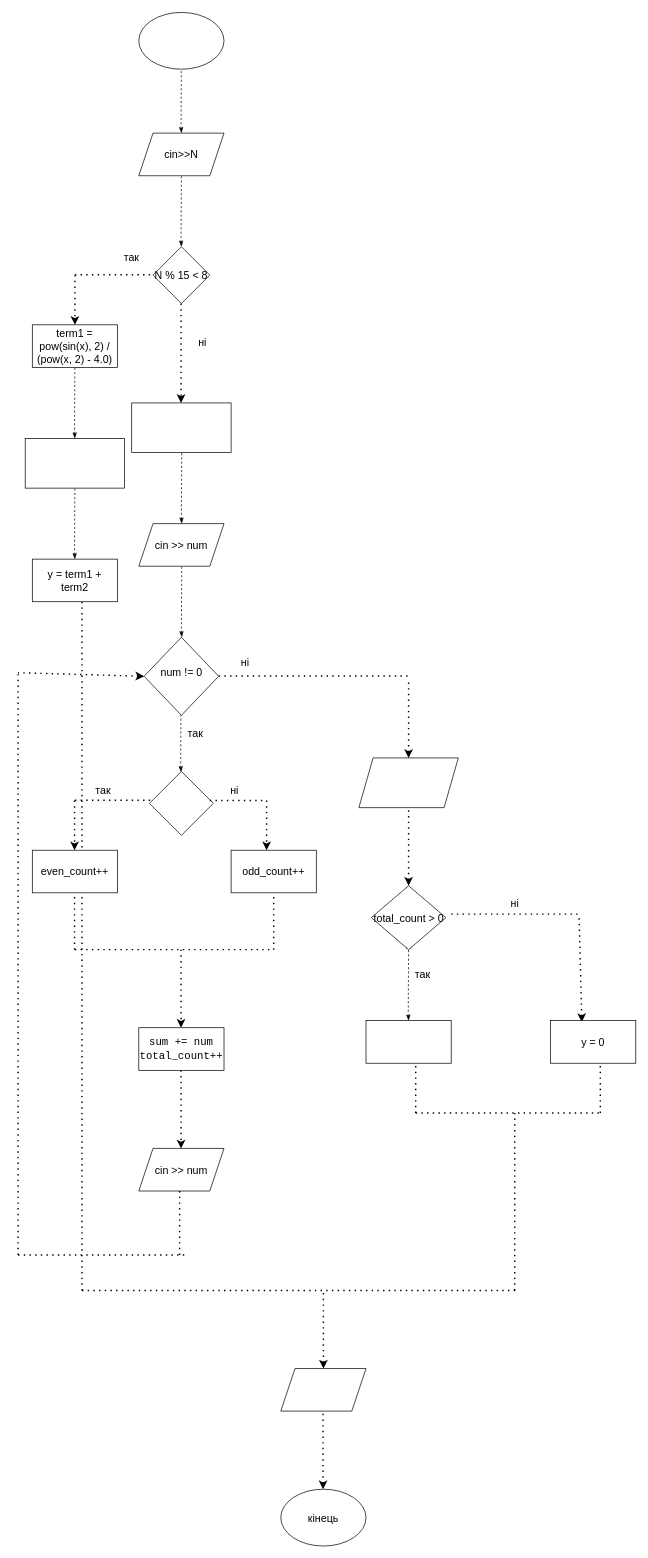
The diagram is 648 pixels wide and 1558 high, and some of its shapes have lost their labels. Each missing label, with the centre of its shape:
"cout << even_count << odd_count" goes at pixel 408 782.
"cout << y" goes at pixel 323 1389.
"even_count = 0 odd_count = 0 total_count = 0 sum = 0" goes at pixel 181 427.
"num % 2 == 0" goes at pixel 181 803.
"term2 = cos(pow(x, 2)) / (pow(x - 3.0, 13) * abs(x - 5.0) )" goes at pixel 74 463.
"y = (double)sum / total_count" goes at pixel 408 1041.
"початок" goes at pixel 181 40.
